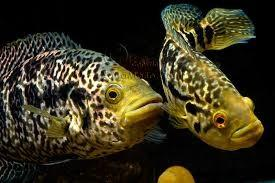Jaguar Gapote: (0, 29, 163, 178), (159, 1, 267, 156)
